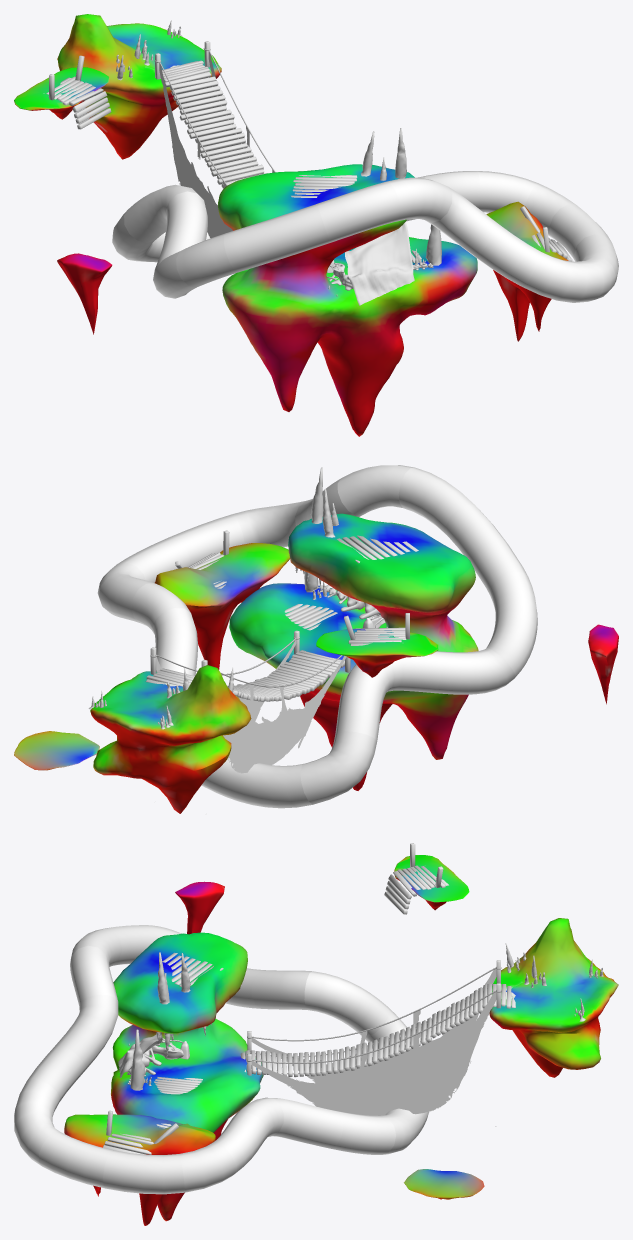
File: hideoutSeparatedCleanApplied.fbx
3 renders of one model, top to bottom at view 1: azimuth 30°, elevation 25°; view 2: azimuth 150°, elevation 25°; view 3: azimuth 270°, elevation 25°, orthographic. The views are drawn at different scales.
Visible parts, largest first — view 1: Main, Entrance, flowWhole, BazaarWoodColumnBridge, Tarp, flow.001, Side, flow.006, flow.005, flow.002, flow.013, Cloth.001 (+12 smaller); view 2: Main, Entrance, flowWhole, Side, Cloth.001, flow.015, flow.010, BazaarWoodColumnBridge, flow.014, flow.012, Outer2, flow.001 (+15 smaller); view 3: Main, Entrance, Cloth, flowWhole, BazaarWoodColumnBridge, Side, Cloth.001, flow.014, flow.003, flow.004, flow.006, flow.016 (+20 smaller).
Part boxes in pixels (bbox=[...]): Main: bbox=[218, 164, 477, 436]; Entrance: bbox=[57, 14, 221, 159]; flowWhole: bbox=[153, 183, 615, 302]; BazaarWoodColumnBridge: bbox=[160, 60, 266, 188]; Tarp: bbox=[345, 222, 414, 305]; flow.001: bbox=[317, 182, 400, 242]; Side: bbox=[486, 201, 568, 341]; flow.006: bbox=[425, 187, 500, 258]; flow.005: bbox=[477, 226, 541, 287]; flow.002: bbox=[386, 177, 451, 222]; flow.013: bbox=[176, 233, 237, 287]; Cloth.001: bbox=[159, 63, 232, 238]; Main: bbox=[229, 513, 478, 790]; Entrance: bbox=[90, 665, 251, 813]; flowWhole: bbox=[97, 501, 536, 676]; Side: bbox=[155, 543, 289, 669]; Cloth.001: bbox=[223, 656, 346, 773]; flow.015: bbox=[209, 758, 312, 808]; flow.010: bbox=[300, 731, 376, 804]; BazaarWoodColumnBridge: bbox=[145, 650, 344, 701]; flow.014: bbox=[335, 664, 394, 741]; flow.012: bbox=[433, 648, 515, 694]; Outer2: bbox=[316, 629, 438, 677]; flow.001: bbox=[398, 467, 474, 534]; Main: bbox=[111, 932, 263, 1221]; Entrance: bbox=[489, 918, 618, 1077]; Cloth: bbox=[251, 992, 496, 1126]; flowWhole: bbox=[14, 925, 235, 1192]; BazaarWoodColumnBridge: bbox=[240, 983, 515, 1077]; Side: bbox=[64, 1114, 215, 1225]; Cloth.001: bbox=[251, 969, 496, 1087]; flow.014: bbox=[304, 971, 389, 1036]; flow.003: bbox=[103, 1150, 184, 1194]; flow.004: bbox=[39, 1132, 112, 1188]; flow.006: bbox=[57, 995, 118, 1069]; flow.016: bbox=[266, 1097, 343, 1148].
Size of what is drawn, in the model's own units: 223 by 131 by 243.
